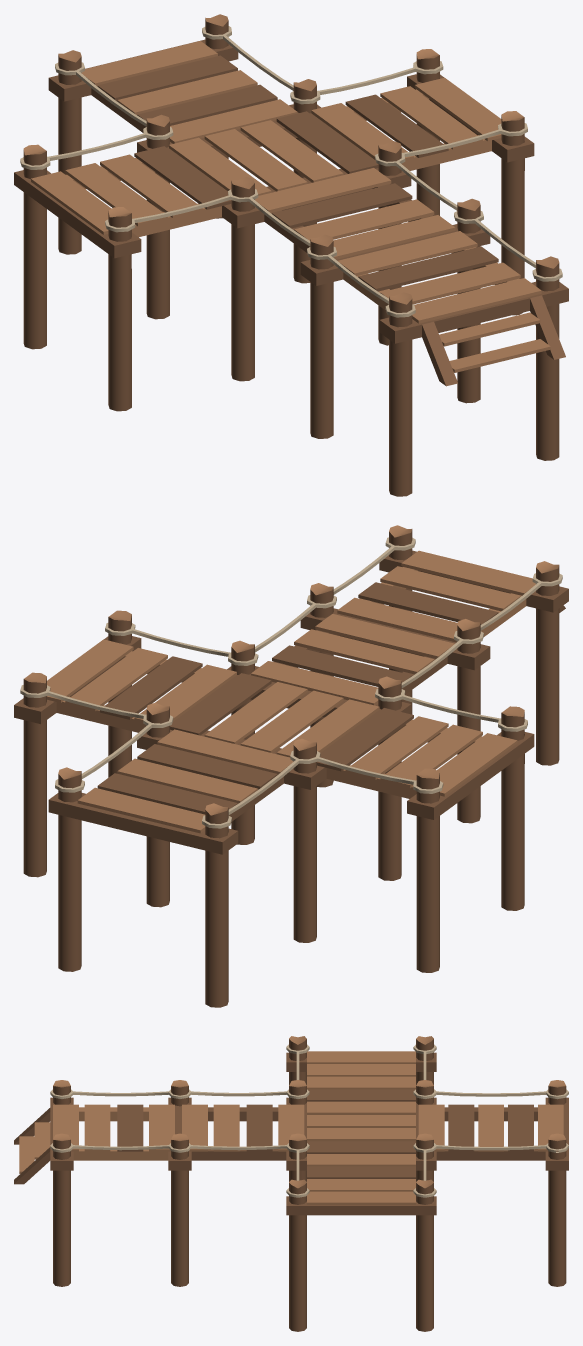
Rendered from Pier_Level_03.fbx.
3 views of the same model, one above another, from view 1: azimuth 30°, elevation 25°; view 2: azimuth 150°, elevation 25°; view 3: azimuth 270°, elevation 25° (orthographic). The views are drawn at different scales.
Parts seen in each view (by area): view 1: Pier_Level_03; view 2: Pier_Level_03; view 3: Pier_Level_03.
Boxes of the visible parts, <box> form: Pier_Level_03: <box>14,14,568,496</box>; Pier_Level_03: <box>14,525,568,1007</box>; Pier_Level_03: <box>14,1036,568,1331</box>.
Size of the model in its own units: 14 by 6.2 by 21.4.
